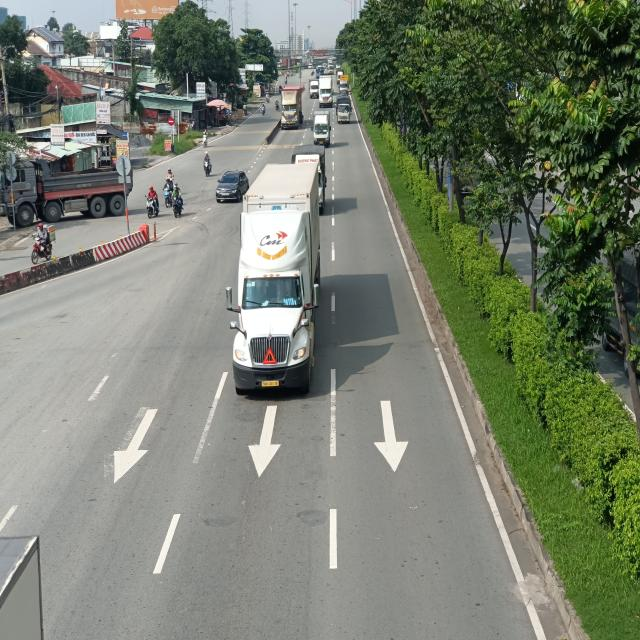car: (215, 168, 249, 202)
container: (226, 162, 322, 395), (2, 161, 133, 221), (281, 86, 302, 130), (317, 75, 334, 108)
truck: (311, 111, 332, 145), (336, 95, 352, 124)
